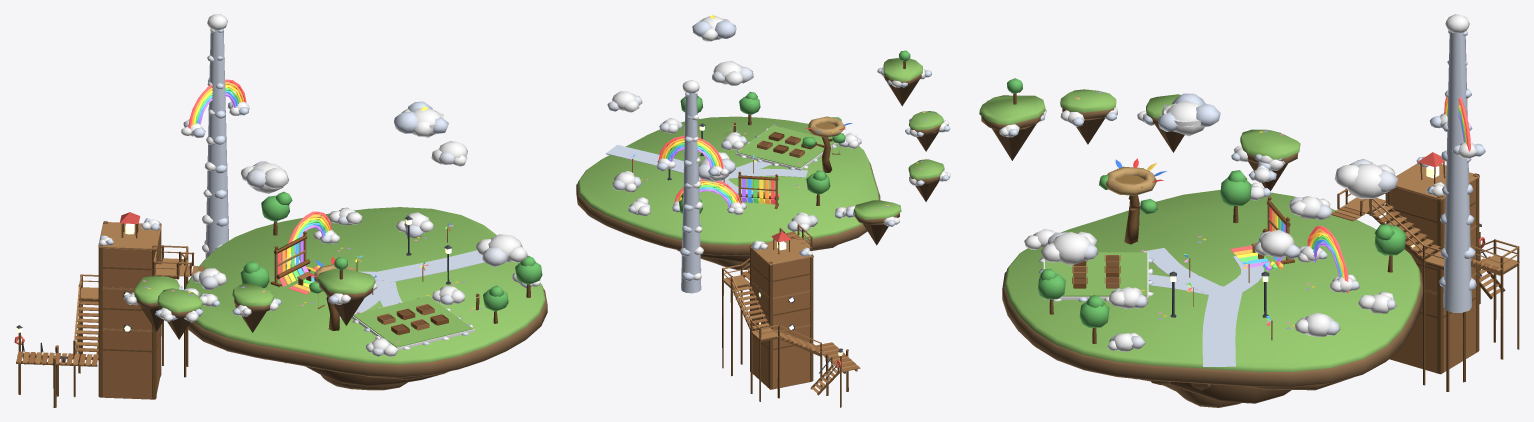
Rendered from nuvens-media.glb.
The picture shows the model from 3 angles, left to right: view 1: azimuth 30°, elevation 25°; view 2: azimuth 150°, elevation 25°; view 3: azimuth 270°, elevation 25°; orthographic projection. The views are drawn at different scales.
Parts seen in each view (by area): view 1: ilha-media; view 2: ilha-media; view 3: ilha-media.
Part boxes in pixels (x1,y1,x2,y2): ilha-media: (14, 14, 547, 407); ilha-media: (576, 14, 950, 407); ilha-media: (979, 14, 1519, 407).
Bounding box in the file's own units: 32.83 × 26.56 × 32.87.
